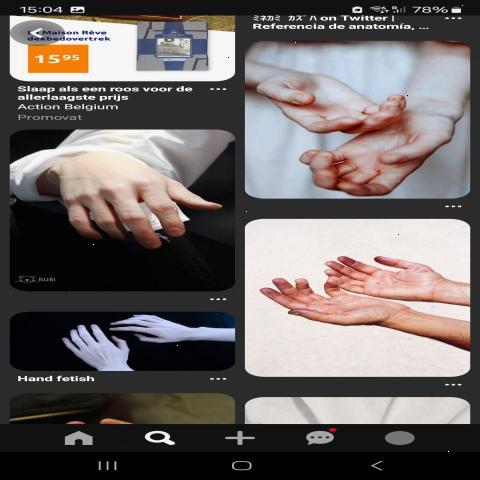Hands: (35, 130, 228, 270), (278, 96, 458, 198), (252, 53, 418, 140), (255, 267, 404, 355), (315, 234, 467, 307), (112, 306, 227, 353), (50, 318, 138, 368)
